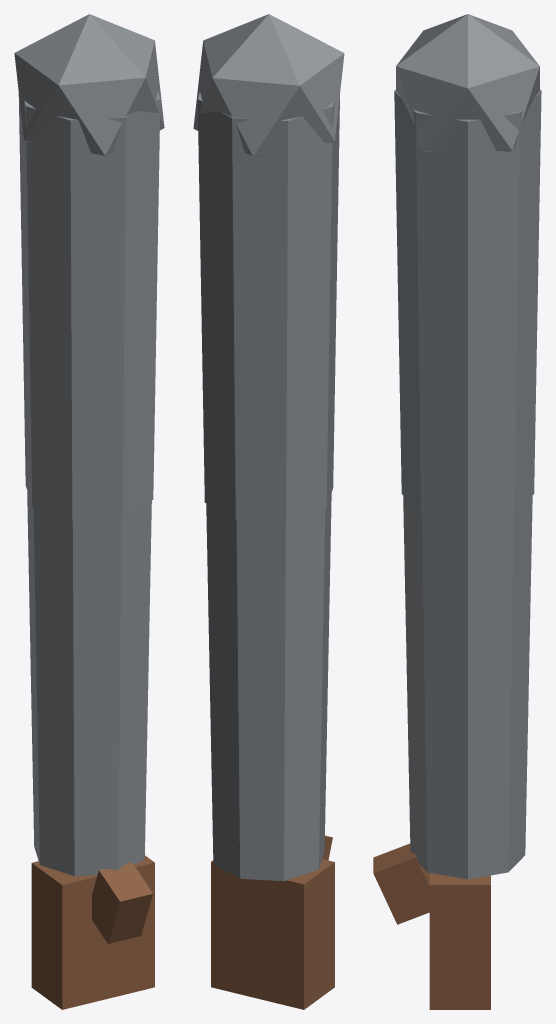
Rendered from PersonHelper2ArmL.obj.
3 views of the same model, side by side, from view 1: azimuth 30°, elevation 25°; view 2: azimuth 150°, elevation 25°; view 3: azimuth 270°, elevation 25° (orthographic).
Visible parts, largest first — view 1: PersonHelper2ArmL; view 2: PersonHelper2ArmL; view 3: PersonHelper2ArmL.
Part boxes in pixels (x1,y1,x2,y2): PersonHelper2ArmL: [14, 14, 164, 1009]; PersonHelper2ArmL: [193, 14, 344, 1009]; PersonHelper2ArmL: [373, 14, 541, 1009].
Bounding box in the file's own units: 0.0987 × 0.7002 × 0.1096.
